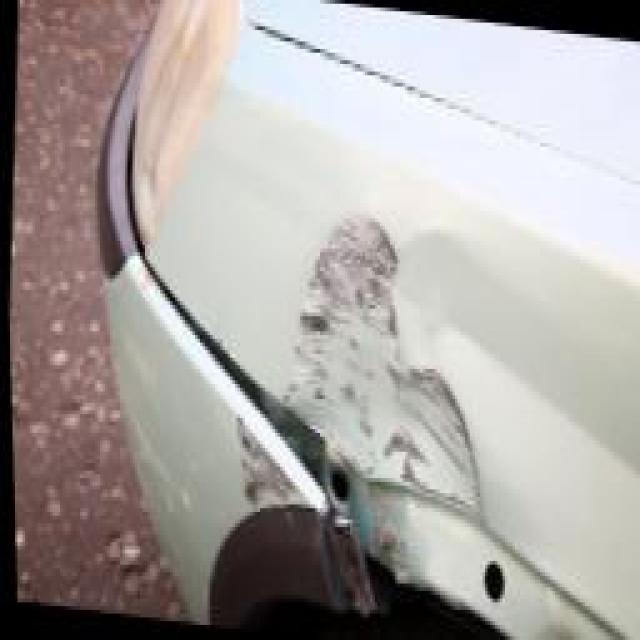Bumper: (153, 346, 369, 624)
Fender: (266, 127, 623, 640)
